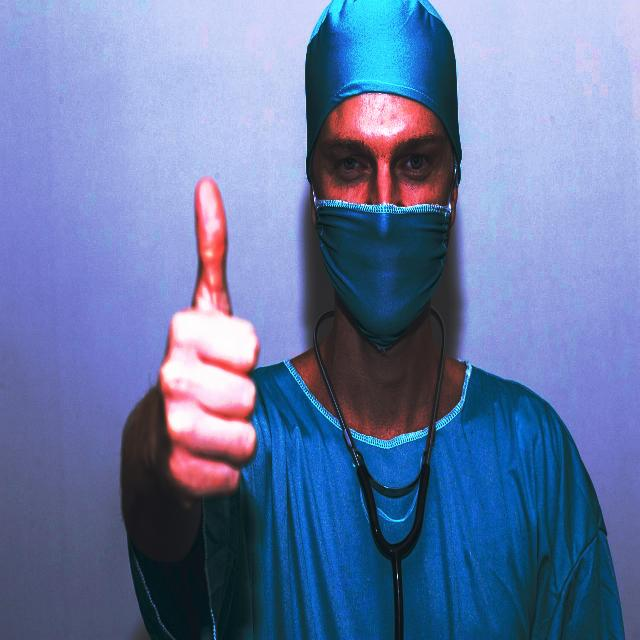thumbs_up: (150, 171, 266, 493)
